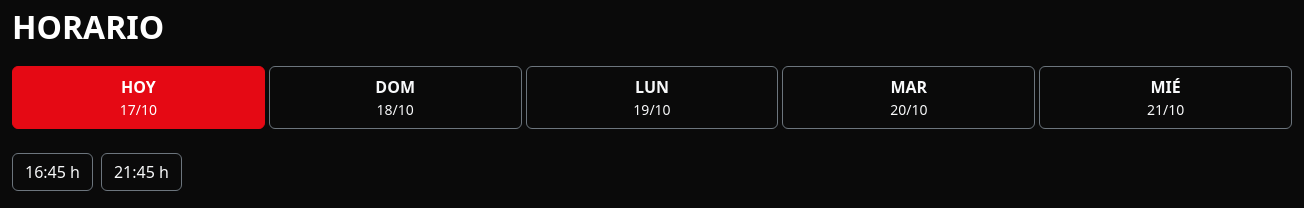
Test: DetalleHorario › muestra 'No hay funciones disponibles.' en un día sin funciones
Click the button "MAR 20/10". click: (909, 98)
box: 782,66 -> 1035,129
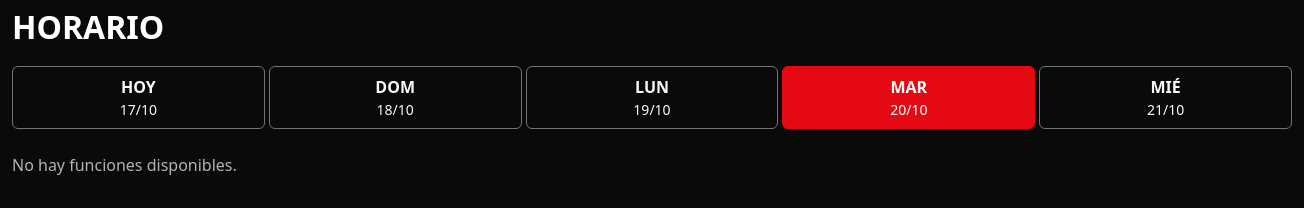
Expected: the text "No hay funciones disponibles." is shown, 12,154 -> 237,176
Expected: no links "16:45 h" are shown
